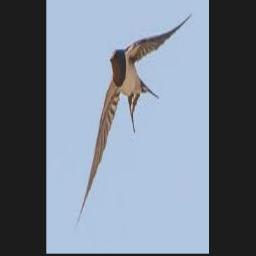Swallow: (75, 14, 192, 230)
